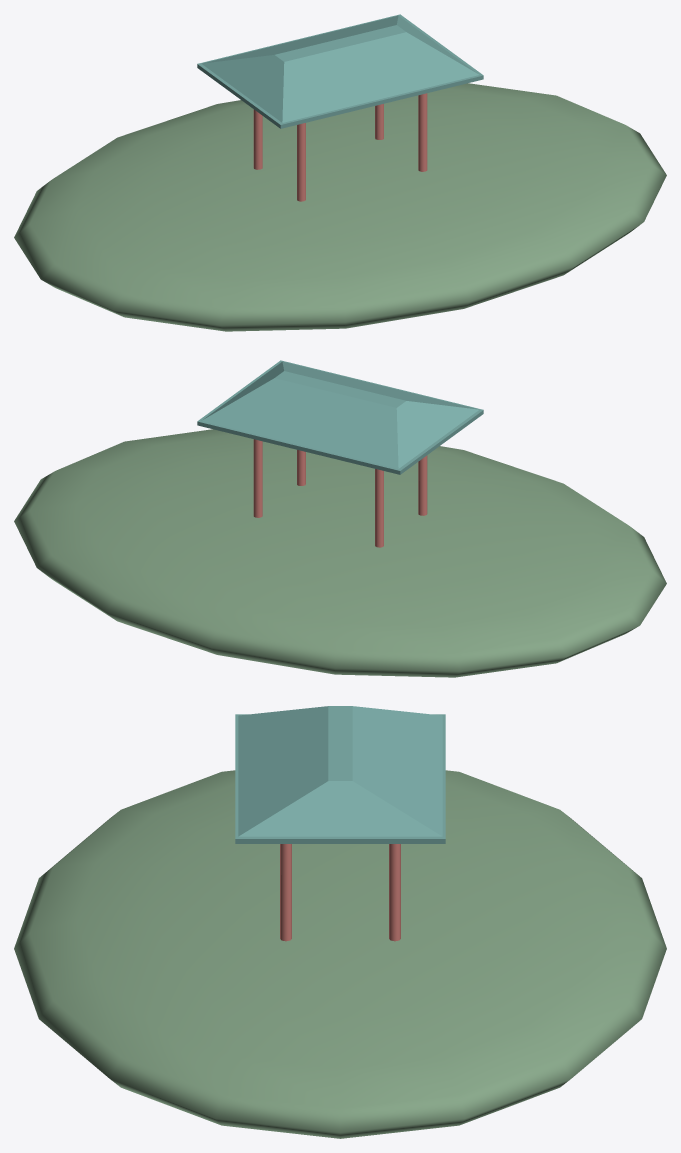
File: pavilion.glb
3 renders of one model, top to bottom at view 1: azimuth 30°, elevation 25°; view 2: azimuth 150°, elevation 25°; view 3: azimuth 270°, elevation 25°, orthographic. The views are drawn at different scales.
Visible parts, largest first — view 1: pavilion; view 2: pavilion; view 3: pavilion.
Part boxes in pixels (x1,y1,x2,y2): pavilion: [14, 14, 666, 331]; pavilion: [14, 360, 666, 677]; pavilion: [14, 706, 666, 1138].
Bounding box in the file's own units: 32 × 10.32 × 24.
